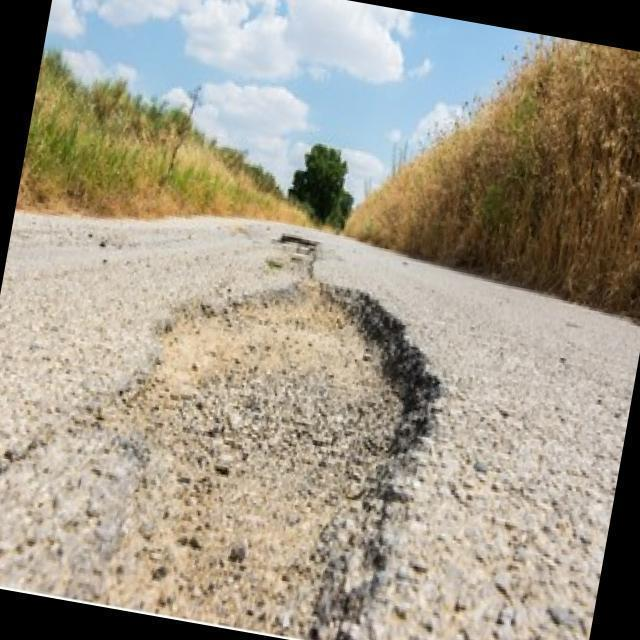pothole: (91, 253, 459, 640), (275, 233, 318, 252)
